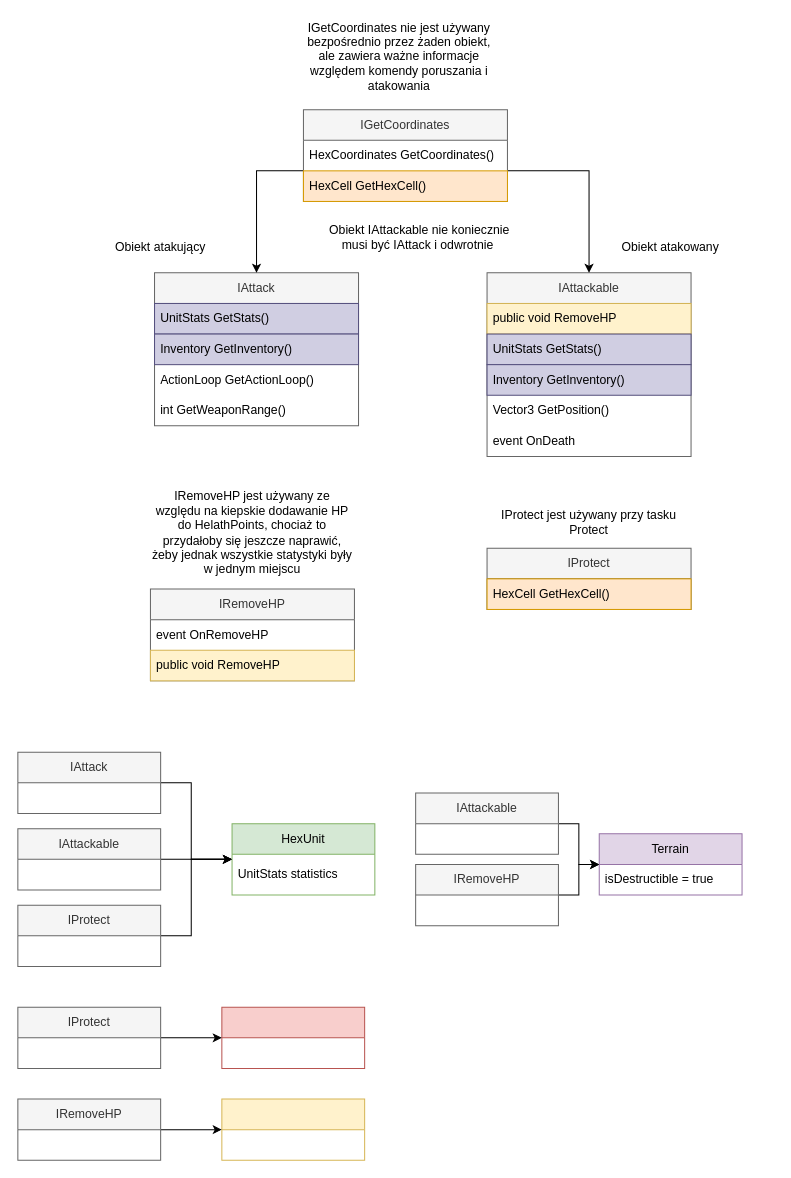
The diagram is 791 pixels wide and 1178 high, and some of its shapes have lost their labels. Each missing label, with the centre of its shape:
HexCell: point 293,1037
UnitStats: point 293,1129
